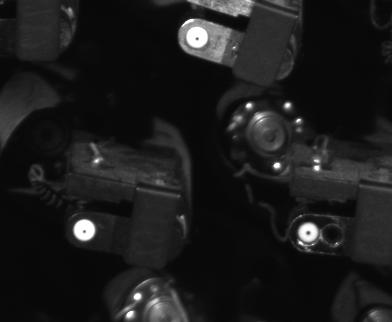fiber: (181, 25, 213, 51), (70, 215, 96, 242), (295, 219, 322, 245)
